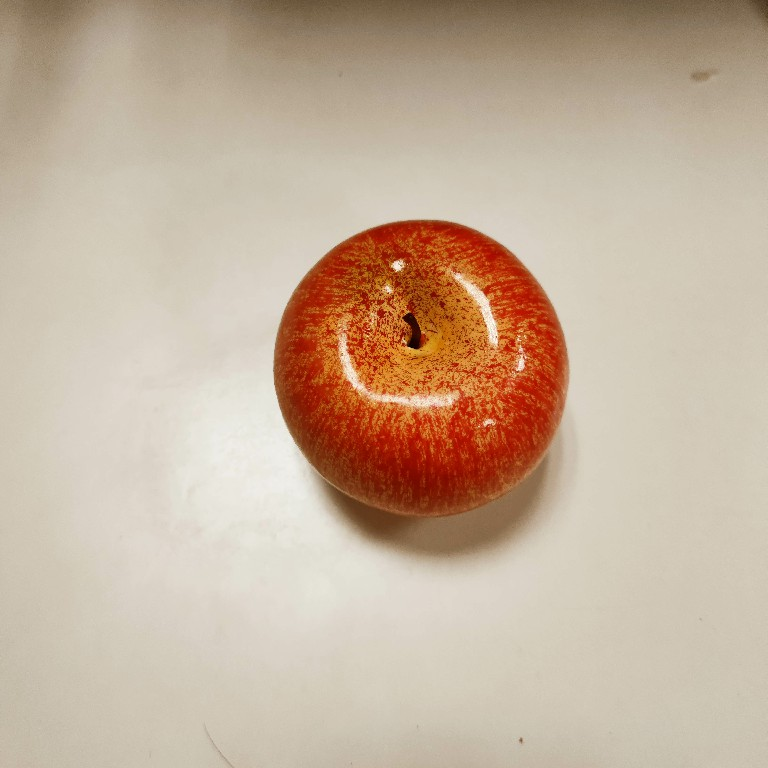fruit_apple: (268, 215, 574, 525)
